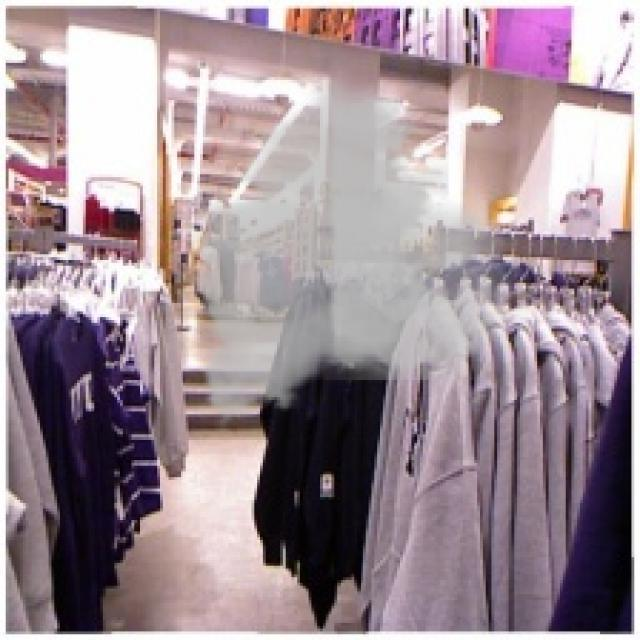Smoke: (180, 66, 529, 437)
